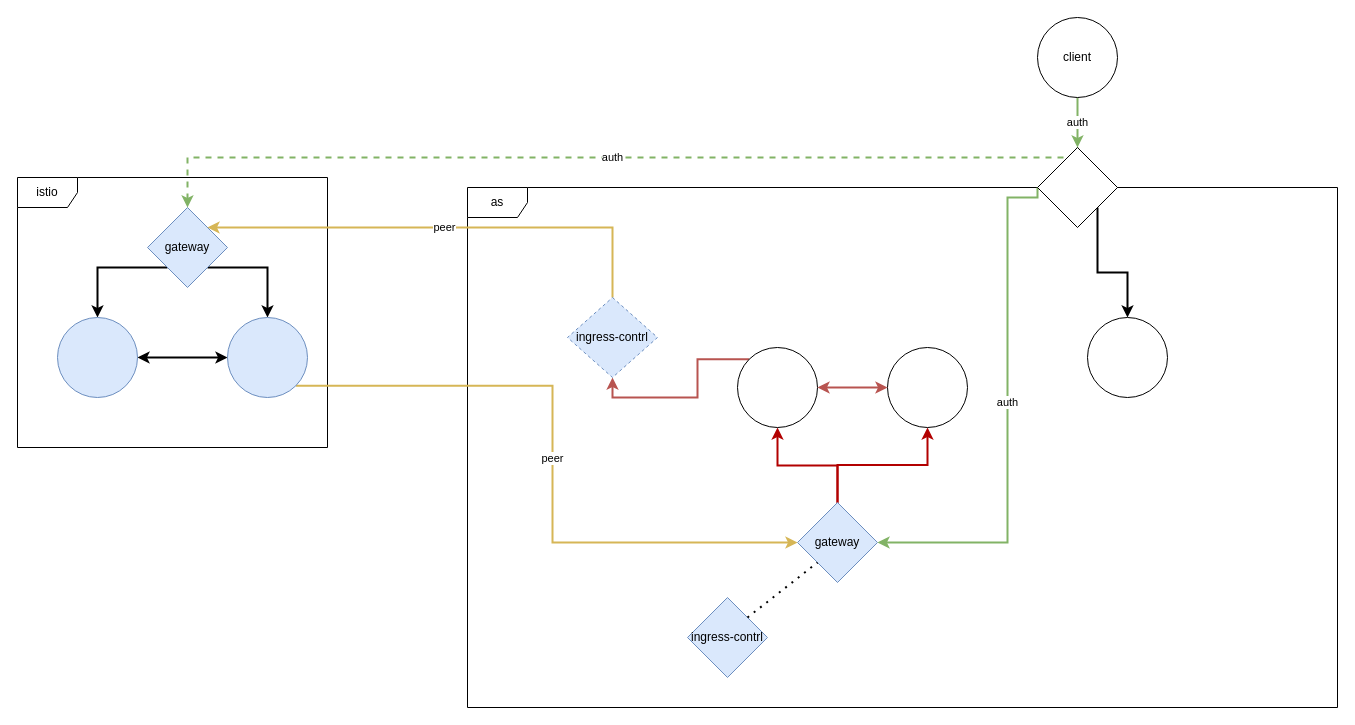
The diagram is 1355 pixels wide and 725 high, and some of its shapes have lost their labels. The centre of each missing label's shape, as x and y in pixels:
auth server: the point at 1127,357
slb-nginx: the point at 1077,187
